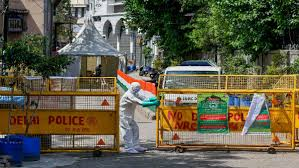mask: (129, 81, 140, 92)
